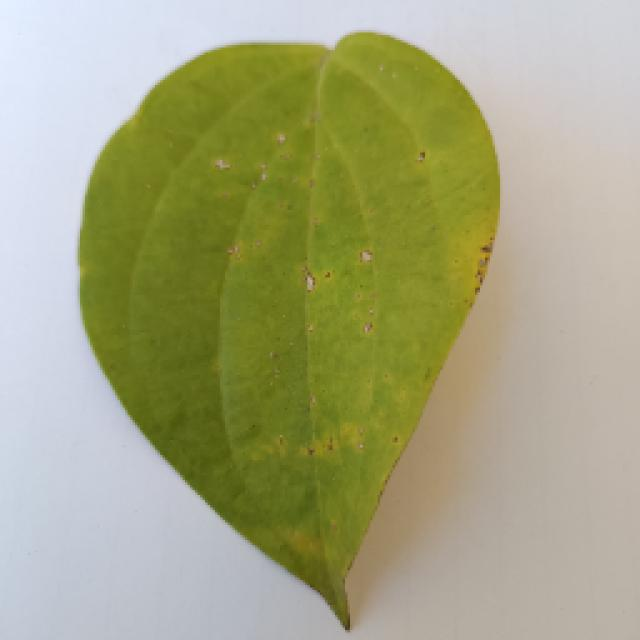slow-decline: (78, 33, 492, 625)
